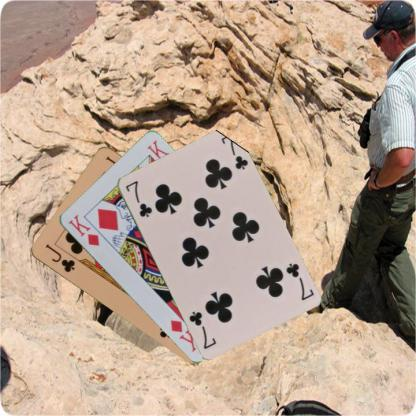7c: (282, 260, 315, 302), (123, 177, 153, 219)
Jc: (42, 241, 76, 274)
Kd: (66, 212, 101, 248)
